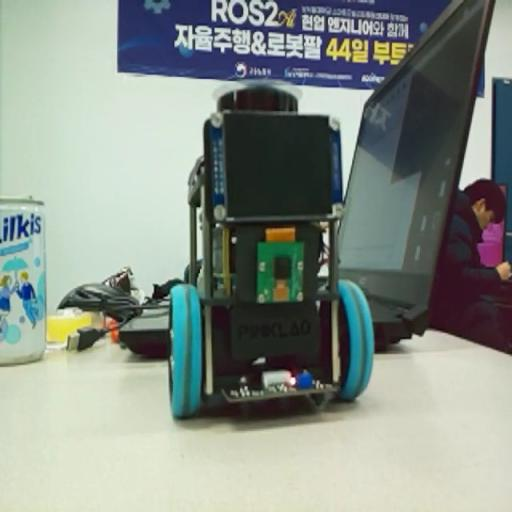pinky_63: (167, 73, 373, 425)
